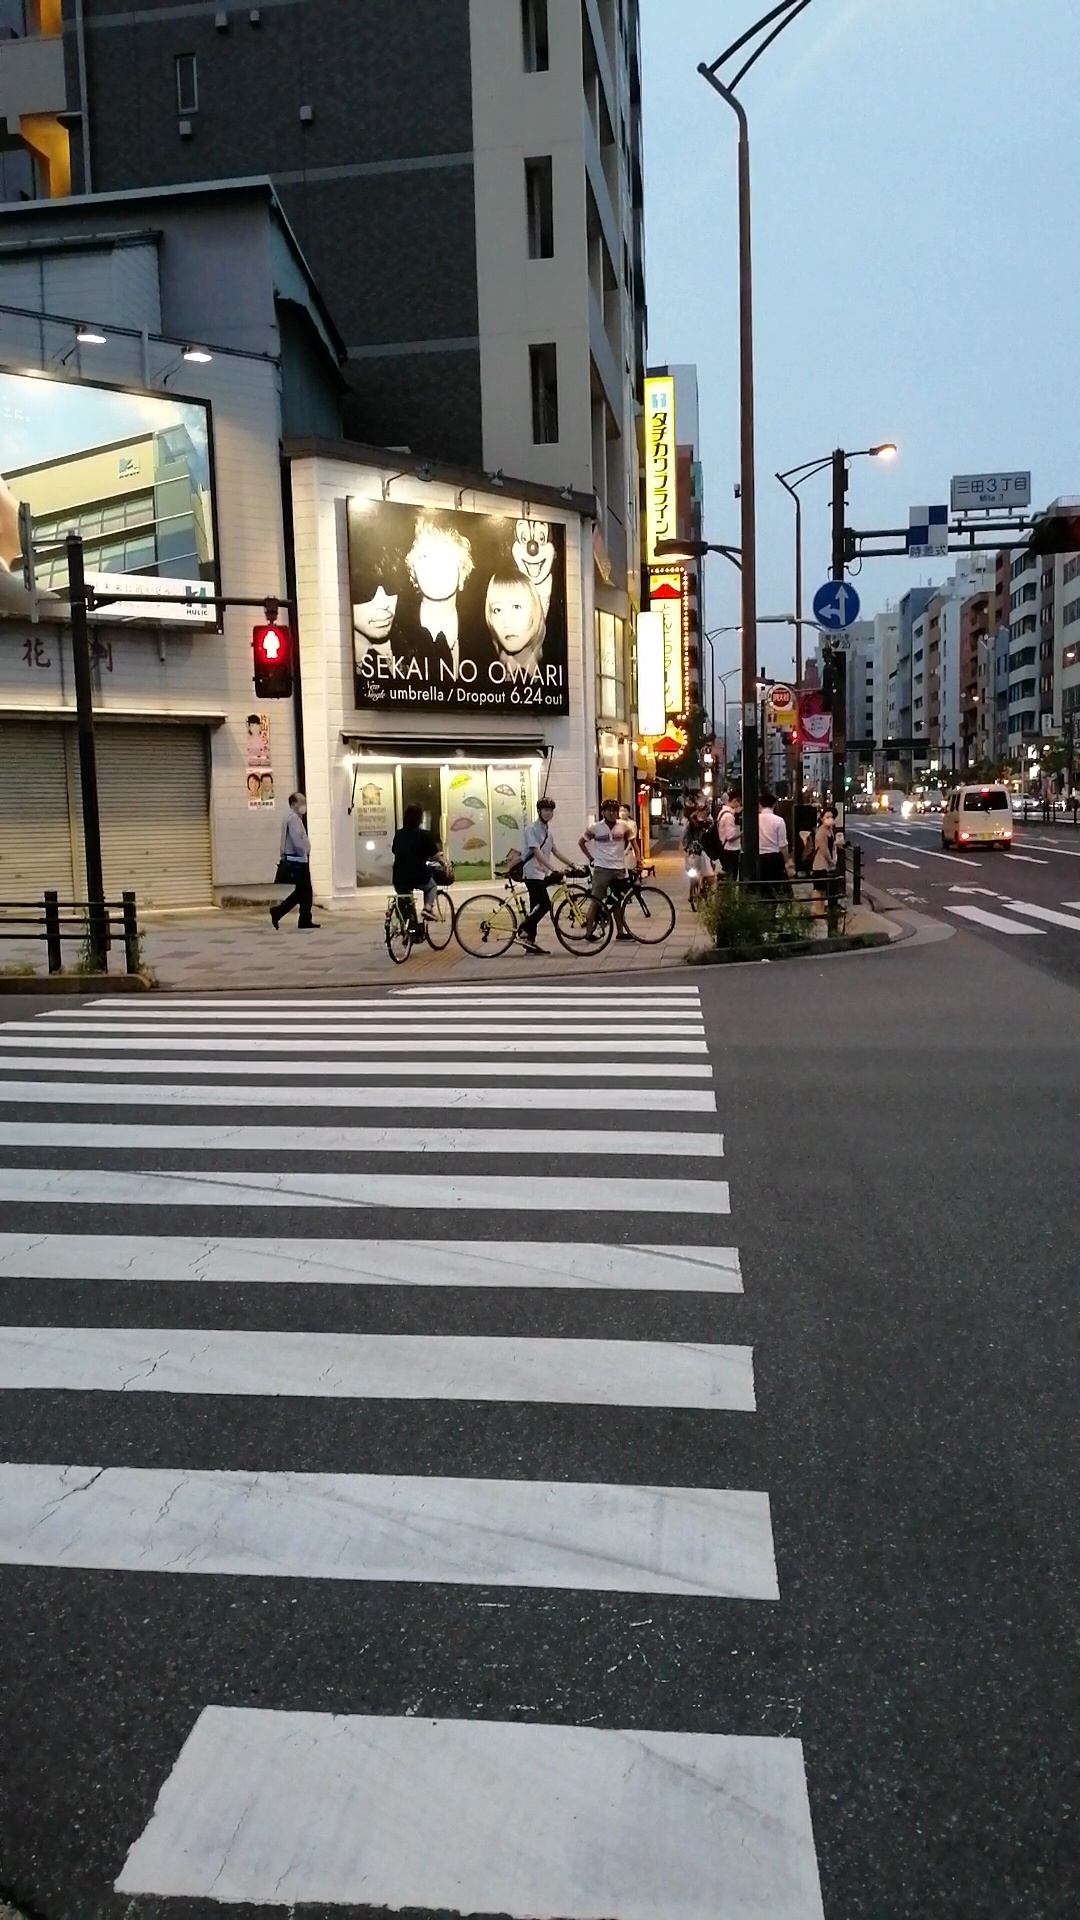red: (252, 624, 295, 698)
